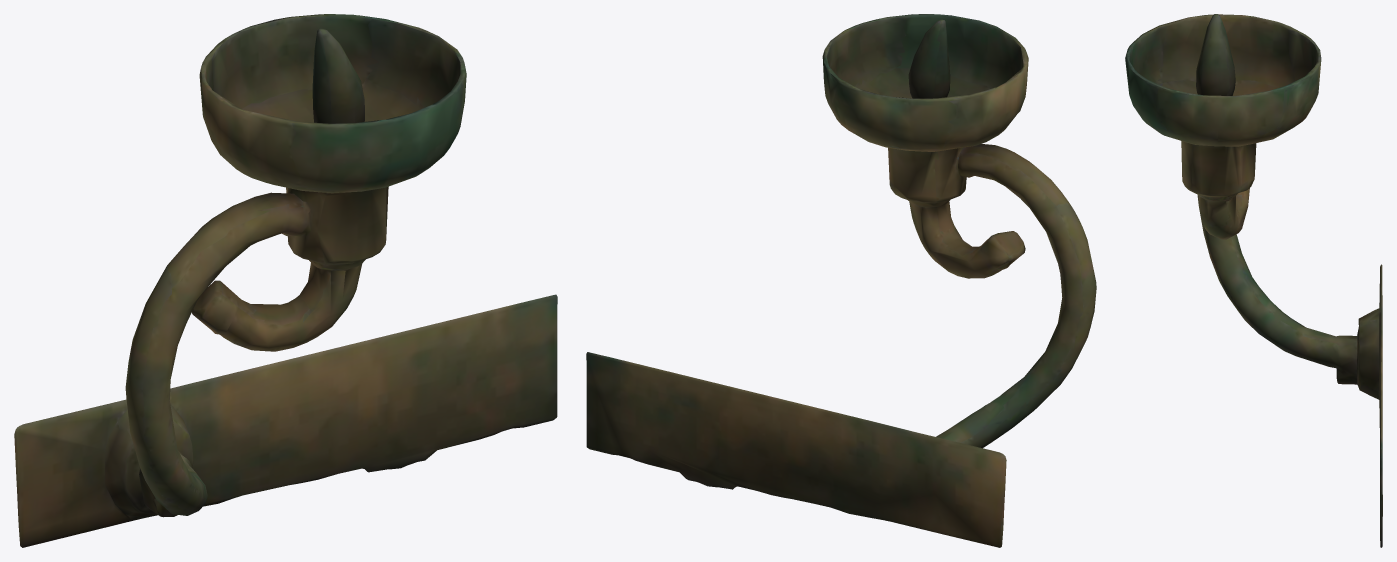
File: old-bronze-wall-torch-v001.glb
3 views of the same model, side by side, from view 1: azimuth 30°, elevation 25°; view 2: azimuth 150°, elevation 25°; view 3: azimuth 270°, elevation 25° (orthographic). The views are drawn at different scales.
Parts seen in each view (by area): view 1: old-bronze-wall-torch; view 2: old-bronze-wall-torch; view 3: old-bronze-wall-torch.
Boxes of the visible parts, left/top/right/bottom form: old-bronze-wall-torch: left=14, top=14, right=557, bottom=547; old-bronze-wall-torch: left=586, top=14, right=1096, bottom=547; old-bronze-wall-torch: left=1125, top=14, right=1382, bottom=547.
Size of the model in its own units: 0.5703 by 0.5691 by 0.3182.
Materials: 1 (1 with a texture image).
